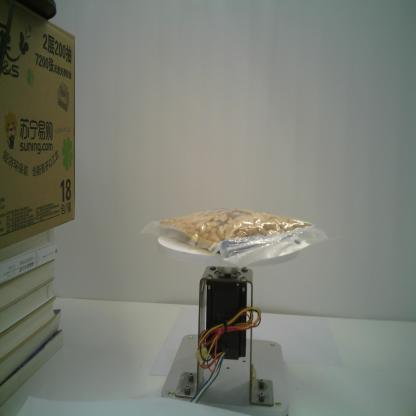Dried Fruit: (139, 204, 331, 268)
